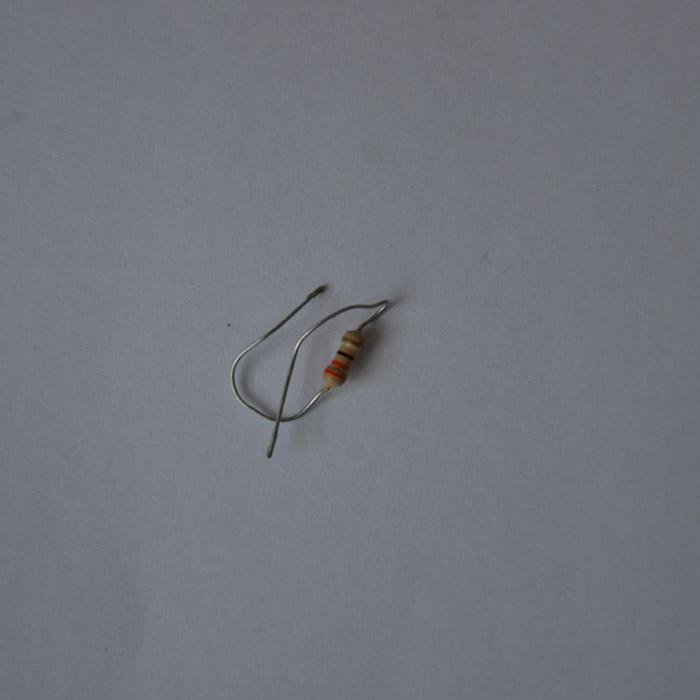resistor: (322, 328, 365, 392)
